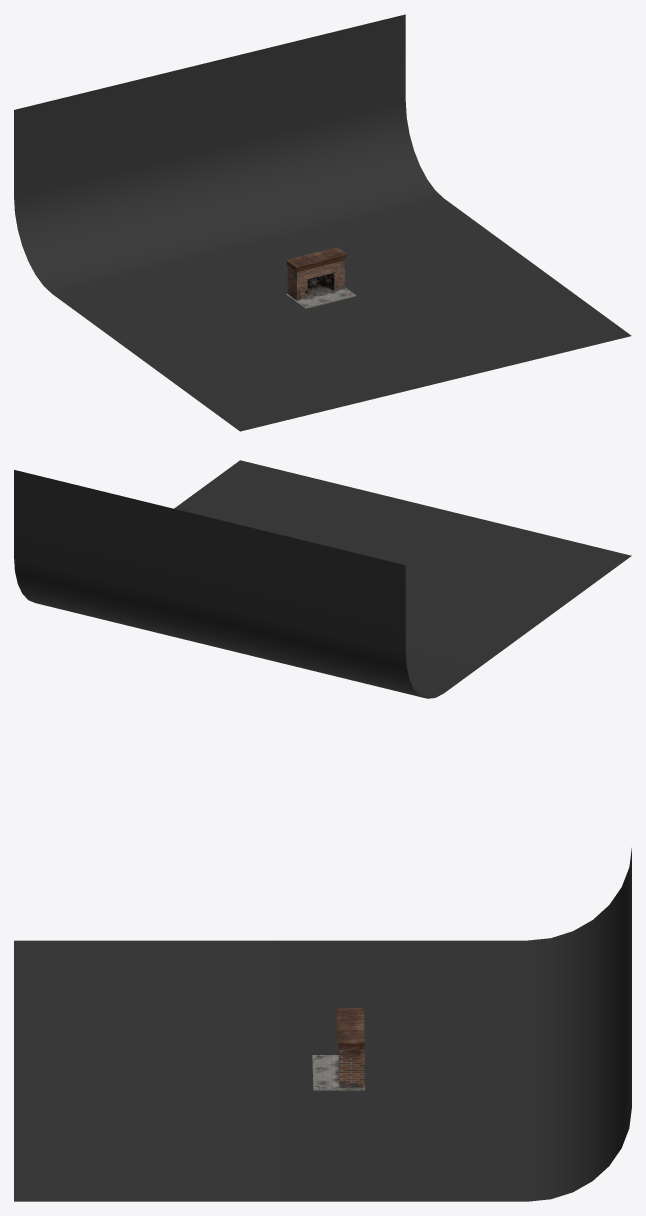
The model's file is FirePlace.fbx.
3 views of the same model, one above another, from view 1: azimuth 30°, elevation 25°; view 2: azimuth 150°, elevation 25°; view 3: azimuth 270°, elevation 25° (orthographic). The views are drawn at different scales.
Visible parts, largest first — view 1: Plane, FirePlace; view 2: Plane; view 3: Plane, FirePlace.
Part boxes in pixels (bbox=[...]): Plane: bbox=[14, 14, 631, 431]; FirePlace: bbox=[286, 247, 356, 308]; Plane: bbox=[14, 460, 631, 698]; Plane: bbox=[14, 848, 631, 1201]; FirePlace: bbox=[312, 1008, 364, 1090].
Bounding box in the file's own units: 1516 × 578 × 1516.
Materials: 3 (2 with a texture image).
